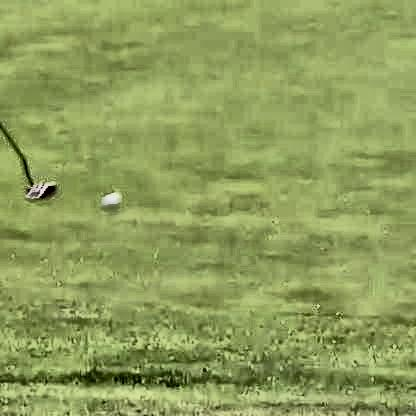golfball: (98, 187, 118, 207)
